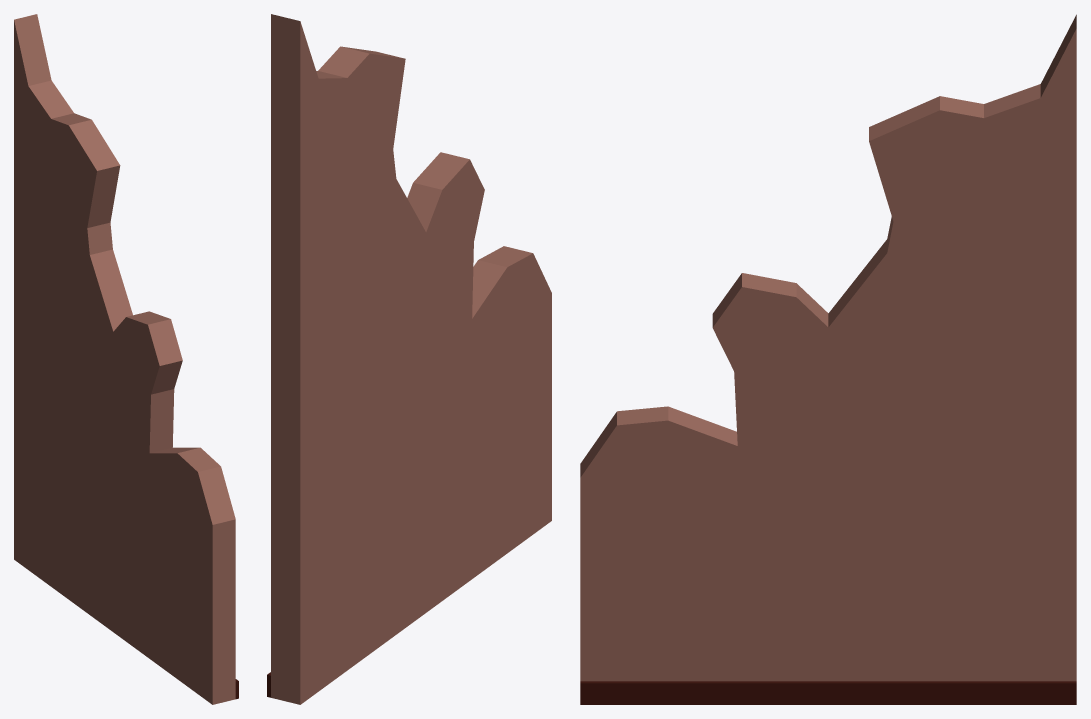
The model's file is T_MurDetruit_9.fbx.
The picture shows the model from 3 angles, left to right: view 1: azimuth 30°, elevation 25°; view 2: azimuth 150°, elevation 25°; view 3: azimuth 270°, elevation 25°; orthographic projection. The views are drawn at different scales.
Visible parts, largest first — view 1: T_MurDetruit_9; view 2: T_MurDetruit_9; view 3: T_MurDetruit_9.
Boxes of the visible parts, box(x1,y1,x2,y2) form: T_MurDetruit_9: box(14, 14, 238, 704); T_MurDetruit_9: box(267, 14, 551, 704); T_MurDetruit_9: box(580, 14, 1076, 704).
Size of the model in its own units: 15.31 by 300 by 200.
